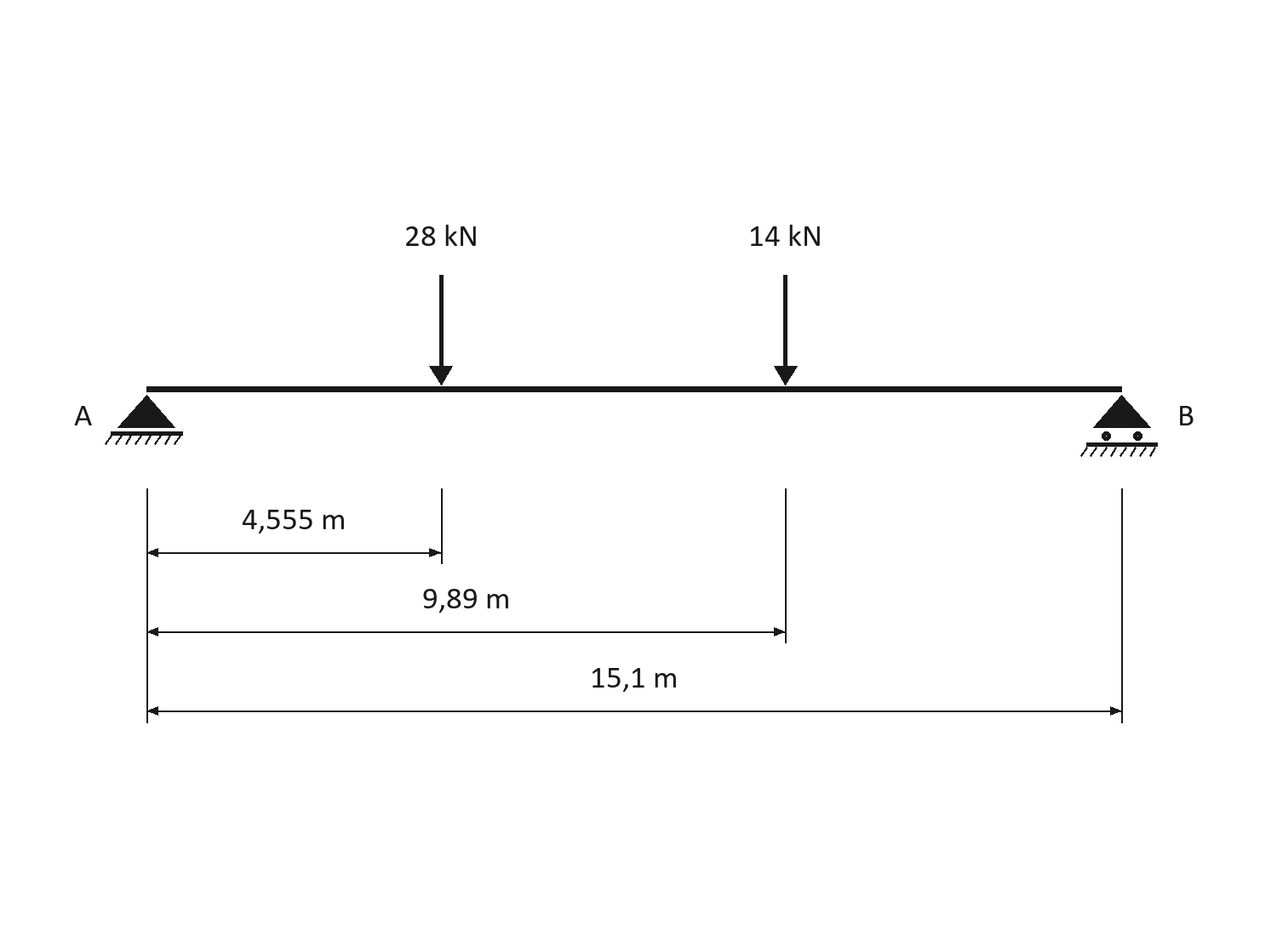pin_support: (105, 395, 183, 445)
point_load: (429, 275, 453, 385), (774, 275, 798, 385)
roller_support: (1080, 395, 1158, 457)
